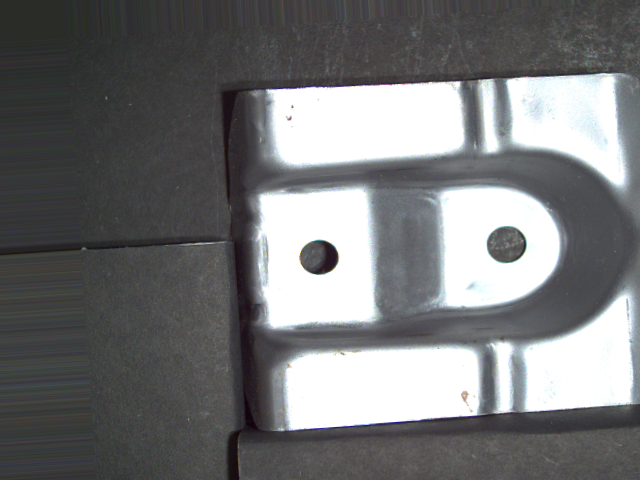defect: (478, 221, 535, 266)
